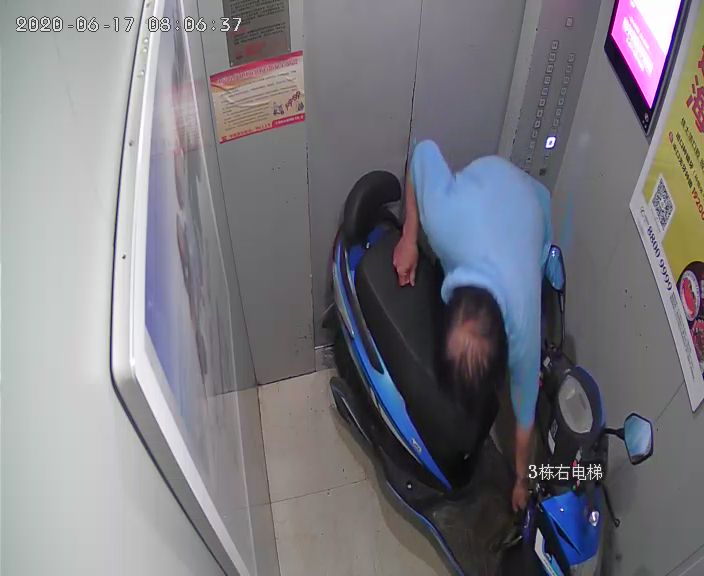Electric-bicycle: (329, 171, 653, 576)
